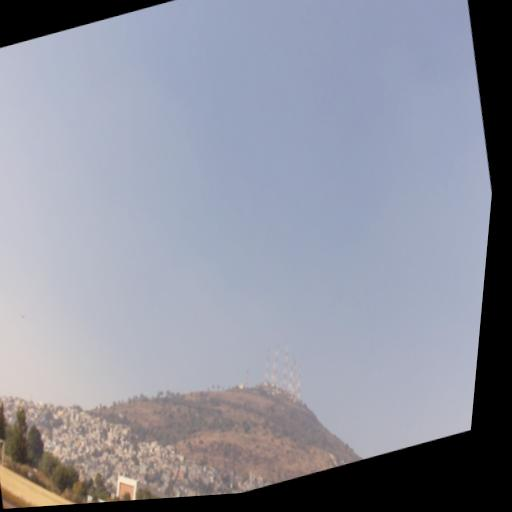drones: (18, 310, 27, 321)
